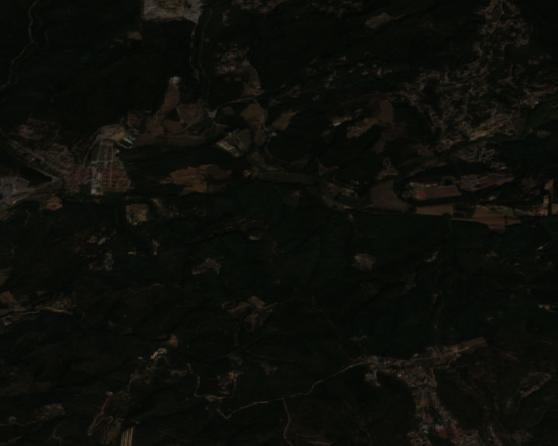Poblacion: (341, 340, 508, 446), (43, 121, 142, 228)
